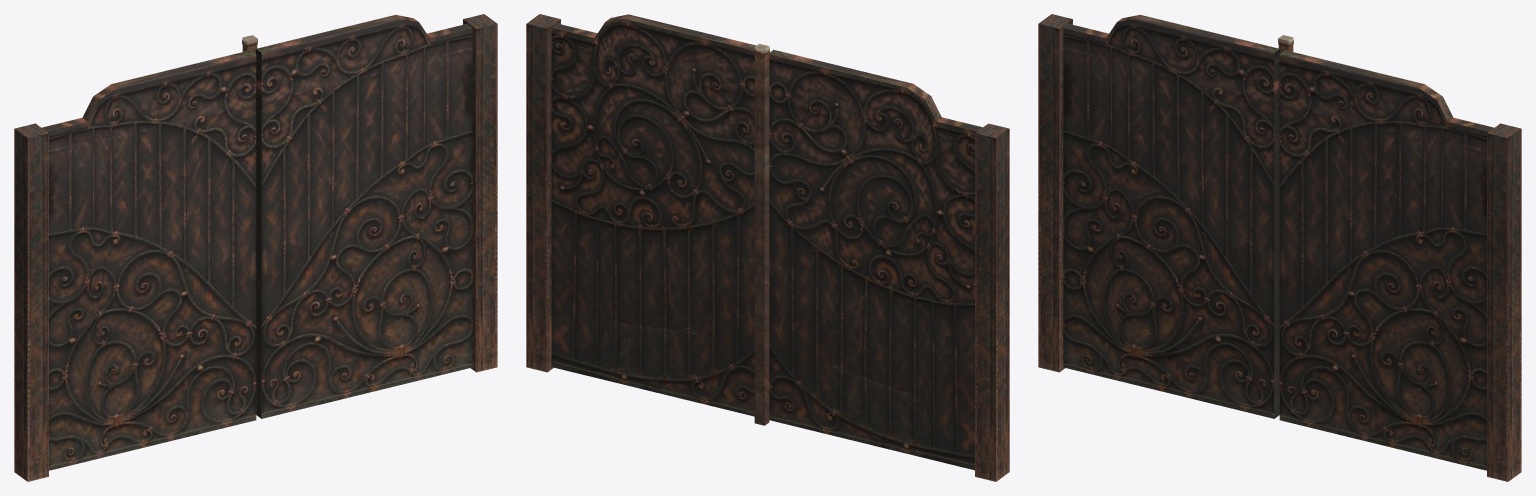
File: Gate.fbx
3 renders of one model, left to right at view 1: azimuth 30°, elevation 25°; view 2: azimuth 150°, elevation 25°; view 3: azimuth 330°, elevation 25°, orthographic.
Visible parts, largest first — view 1: Cube; view 2: Cube; view 3: Cube.
Boxes of the visible parts, box(x1,y1,x2,y2) form: Cube: box(14, 14, 497, 481); Cube: box(526, 14, 1009, 481); Cube: box(1038, 14, 1521, 481).
Size of the model in its own units: 337 by 259 by 20.02.
1 material, 1 textured.
